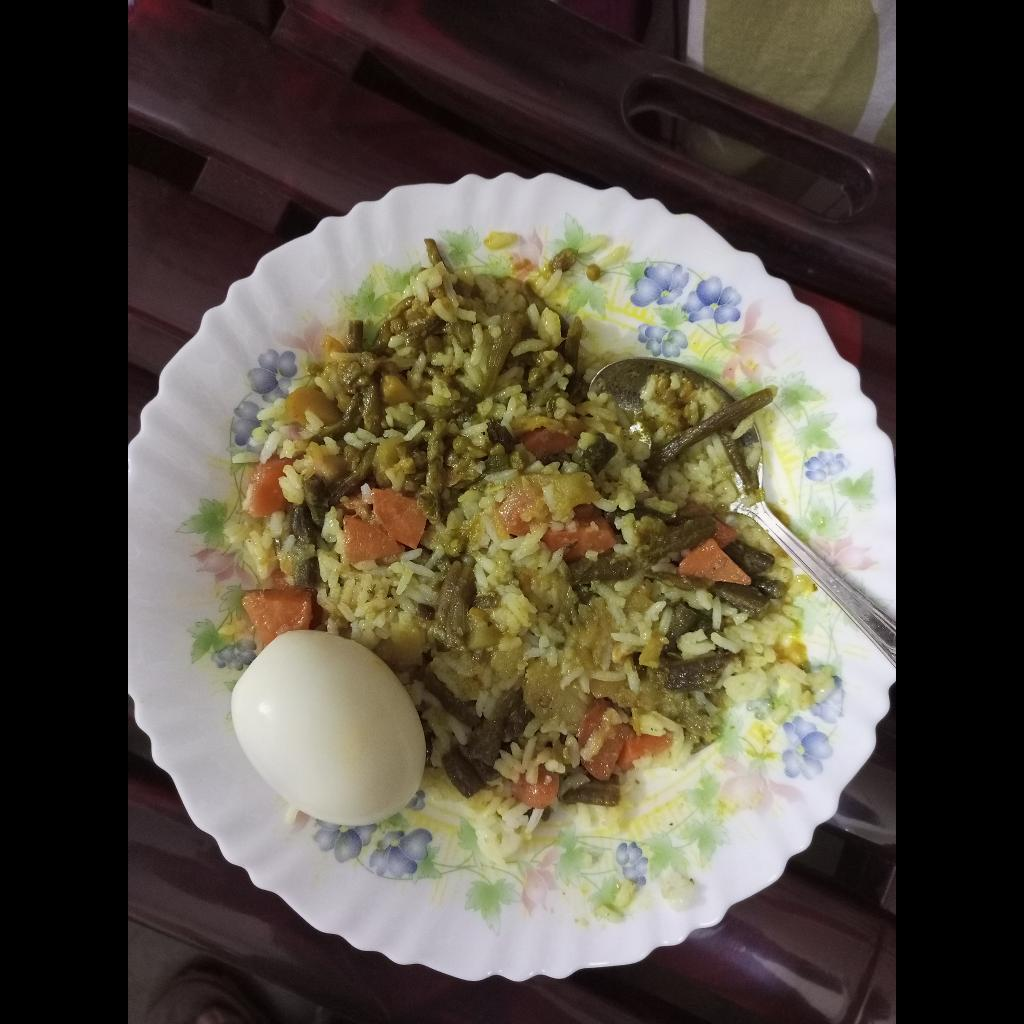egg-boiled: (228, 632, 429, 828)
khichuri: (230, 226, 824, 853)
